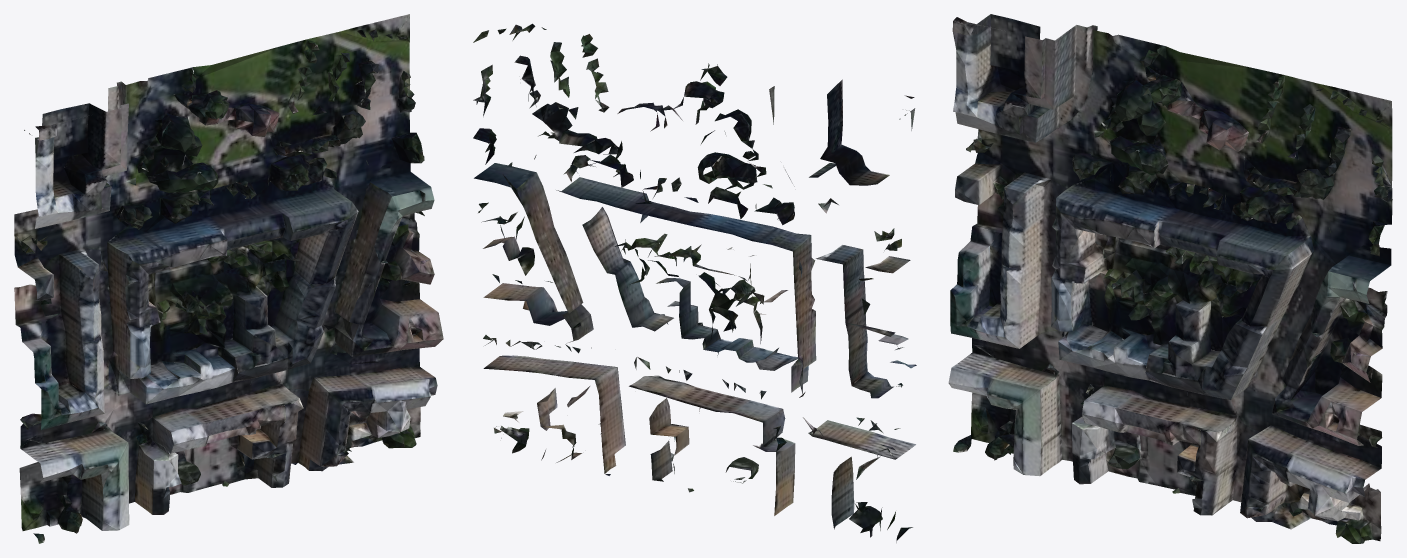
Rendered from Tile_+037_+029_L16_000.glb.
The picture shows the model from 3 angles, left to right: view 1: azimuth 30°, elevation 25°; view 2: azimuth 150°, elevation 25°; view 3: azimuth 330°, elevation 25°; orthographic projection. The views are drawn at different scales.
Size of the model in its own units: 250 by 250 by 40.59.
1 material, 1 textured.
